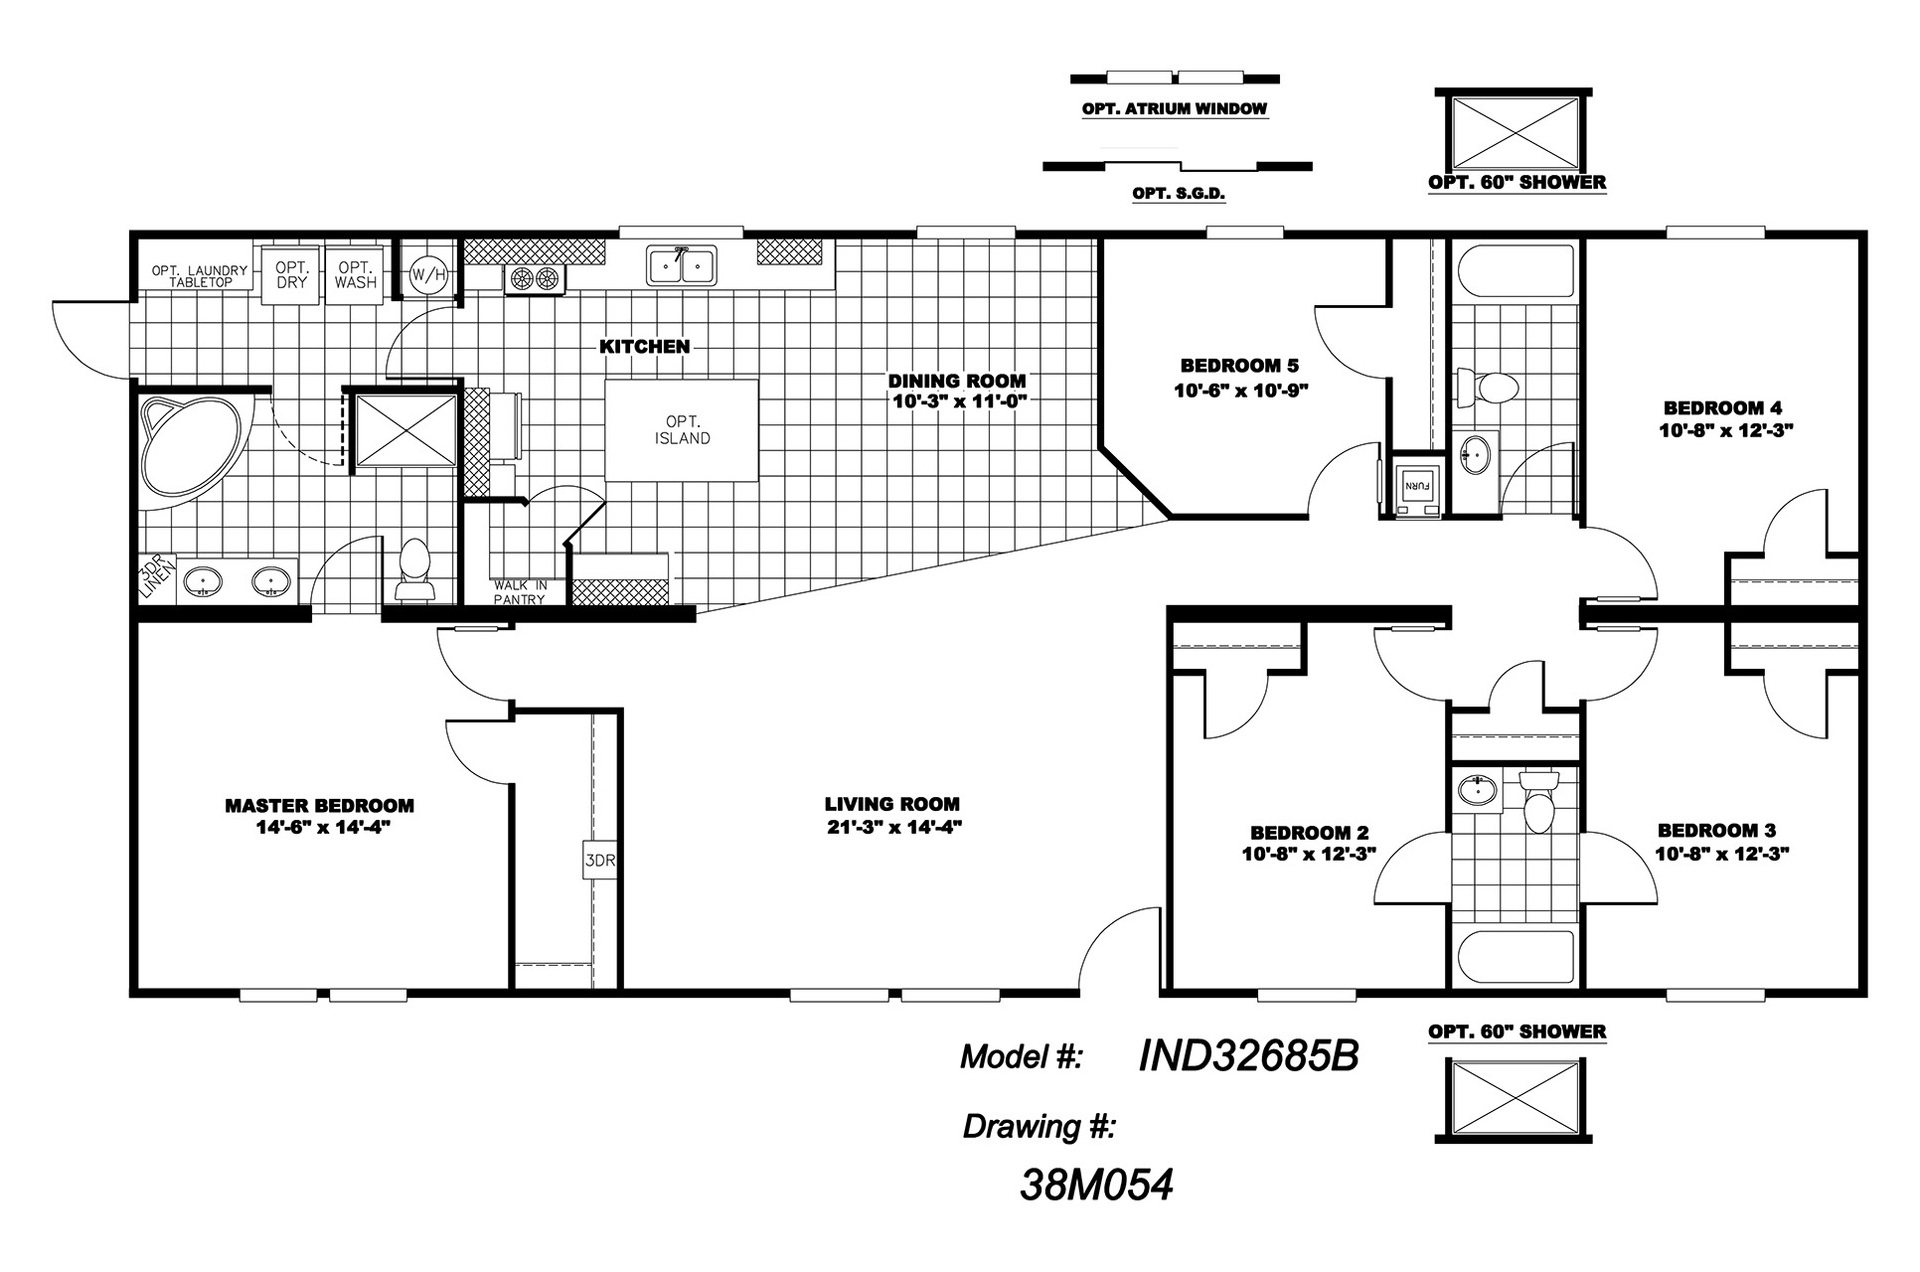wall: (126, 620, 139, 1002), (1858, 676, 1870, 992), (126, 382, 140, 618), (1727, 603, 1867, 625), (1166, 603, 1303, 625), (1577, 241, 1587, 527), (133, 605, 312, 620), (1301, 608, 1457, 623), (128, 230, 404, 238), (1168, 680, 1175, 997), (463, 227, 616, 241), (1578, 605, 1733, 618), (572, 608, 697, 623), (458, 605, 572, 622), (1443, 236, 1452, 456), (1862, 238, 1867, 561), (380, 603, 464, 625), (509, 784, 517, 1005), (1452, 229, 1587, 240), (1097, 236, 1104, 447), (1101, 229, 1205, 241), (1574, 907, 1589, 989), (617, 989, 789, 997), (136, 988, 243, 999), (135, 383, 275, 392), (343, 386, 463, 396), (1767, 229, 1870, 240), (456, 503, 465, 605), (742, 231, 918, 237), (1579, 701, 1587, 838), (514, 708, 627, 717), (1445, 701, 1452, 836), (1358, 988, 1452, 998), (1765, 989, 1870, 998), (1287, 229, 1391, 237), (348, 389, 358, 477), (1015, 230, 1103, 240), (407, 989, 517, 997), (1384, 378, 1394, 454), (128, 231, 139, 298), (392, 233, 403, 297), (460, 376, 465, 503), (517, 989, 617, 997), (562, 547, 573, 609), (1446, 511, 1507, 522), (1587, 988, 1667, 997), (1588, 229, 1665, 237), (457, 231, 465, 307), (1450, 992, 1595, 997), (1394, 229, 1453, 238), (1002, 989, 1084, 997), (1858, 622, 1867, 680), (1162, 992, 1262, 998), (1297, 620, 1307, 674), (1386, 236, 1394, 304), (1385, 449, 1453, 456), (458, 495, 525, 503), (1388, 453, 1395, 518), (1726, 558, 1733, 622), (1859, 564, 1870, 602), (622, 715, 623, 995), (1825, 554, 1870, 562), (1452, 761, 1587, 764), (399, 233, 465, 238), (1266, 667, 1308, 676), (1166, 623, 1174, 674), (1447, 459, 1453, 515), (1825, 670, 1870, 677), (1166, 666, 1203, 674), (1543, 708, 1578, 715), (1721, 670, 1762, 676), (1726, 625, 1730, 673), (1447, 708, 1491, 713), (1447, 901, 1449, 989), (508, 697, 514, 718), (1727, 554, 1764, 555)
